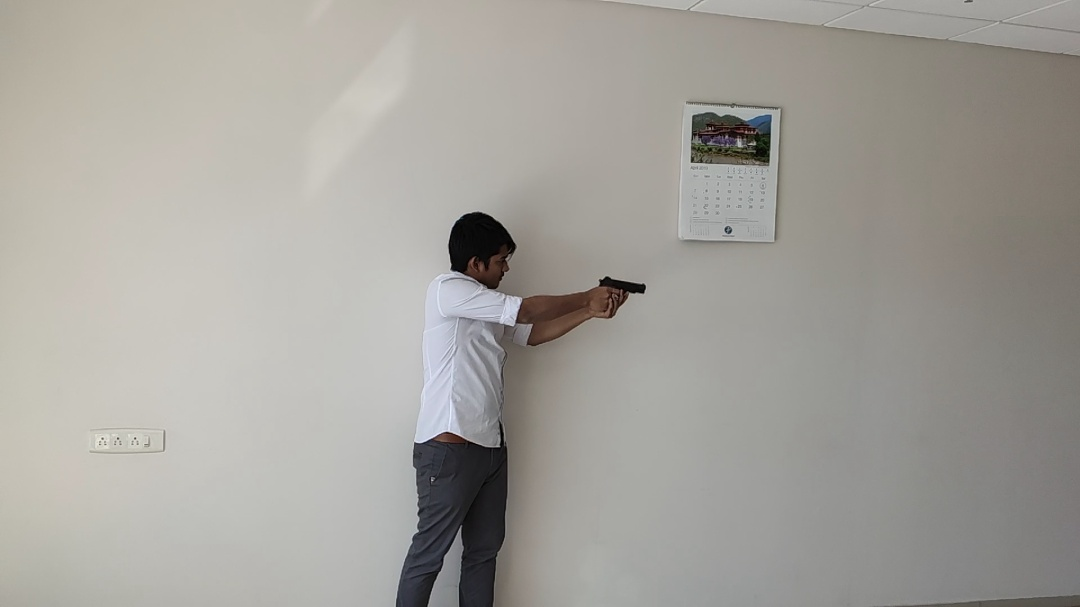gun: (597, 275, 647, 297)
